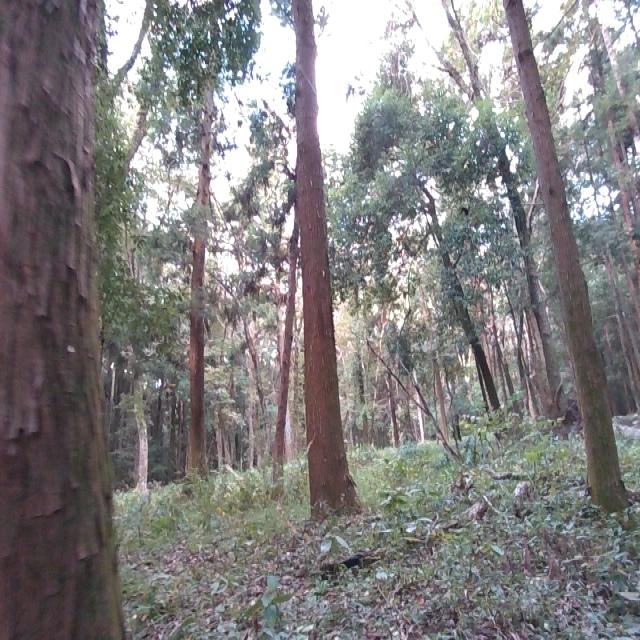bush: (461, 419, 576, 521)
tree: (1, 0, 128, 635), (504, 0, 629, 508), (425, 0, 566, 418), (289, 0, 365, 520), (416, 162, 505, 415), (183, 0, 214, 496), (262, 158, 301, 494), (130, 382, 151, 497)
